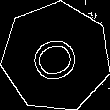O_E: (25, 28, 87, 86)
